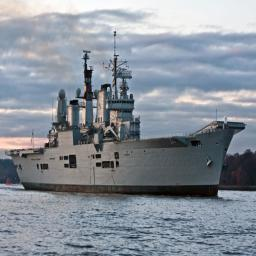Portanaves: (7, 23, 249, 203)
